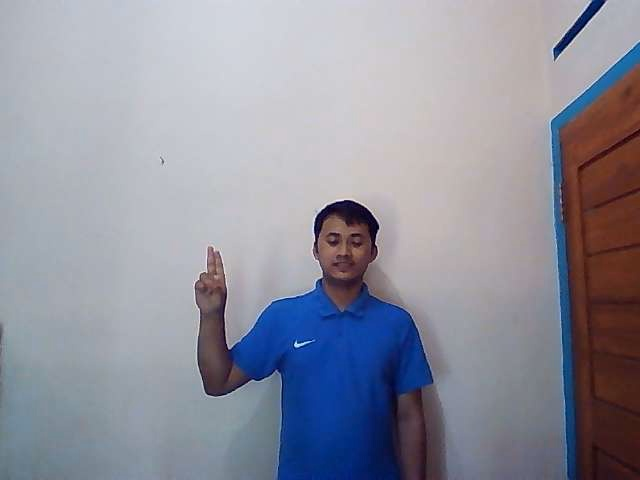U: (193, 245, 229, 313)
